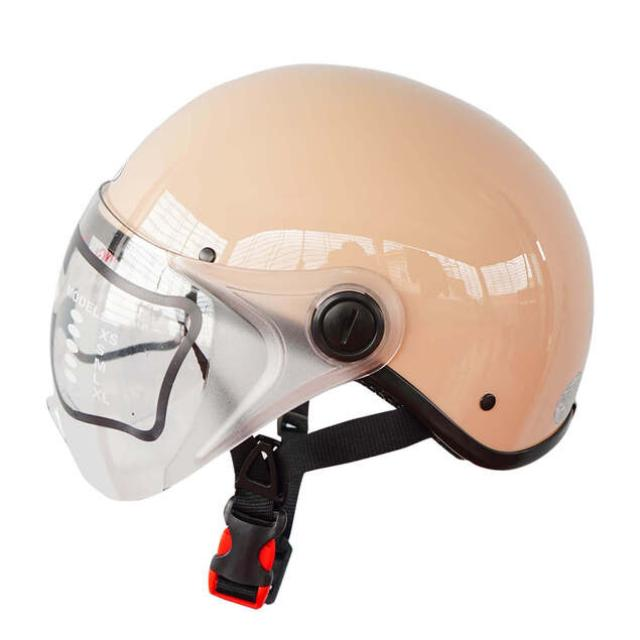Helmet: (43, 60, 597, 618)
